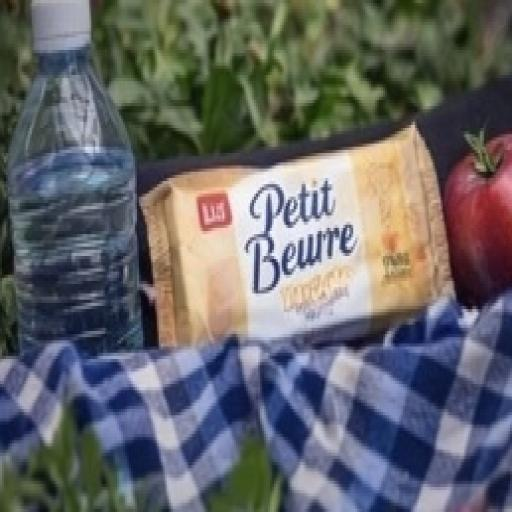petit_beurre: (99, 99, 496, 355)
